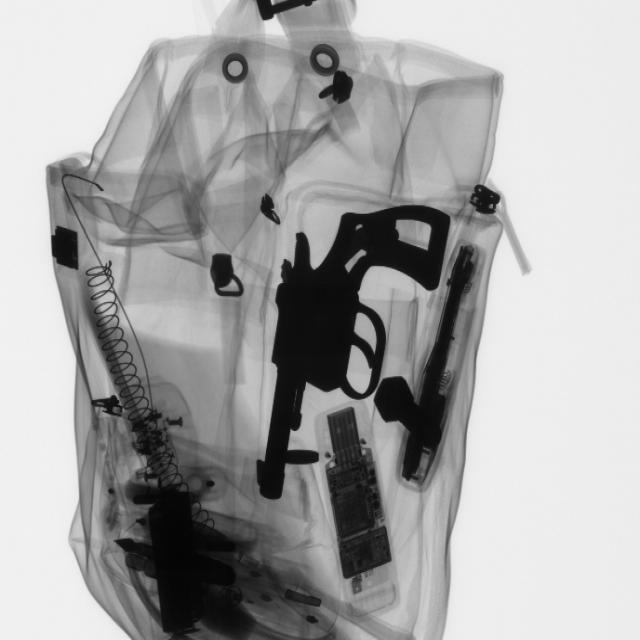GUN: (249, 206, 444, 513)
